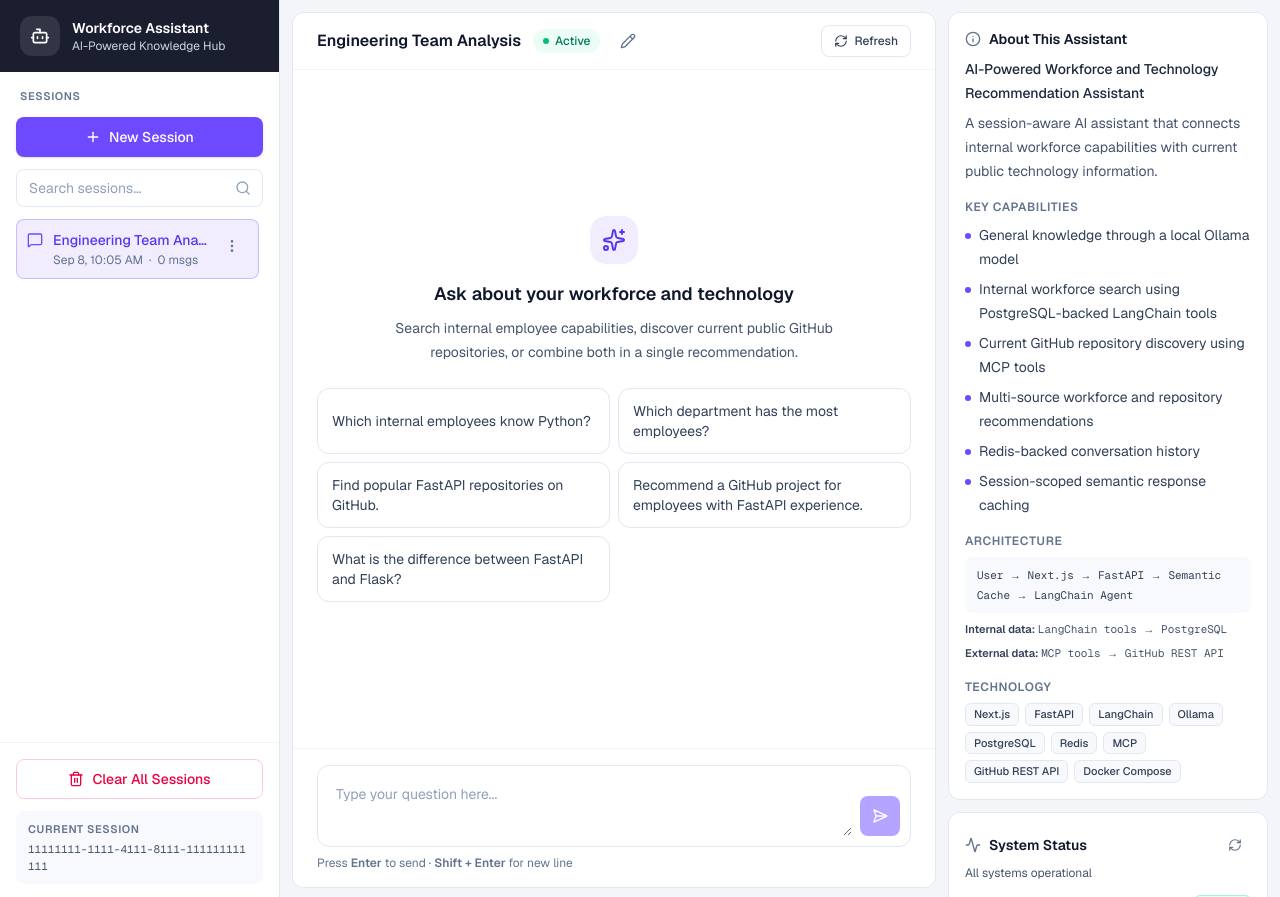
WorkspaceScreen › renames a session through the actions menu
The width and height of the screenshot is (1280, 897).
Expected: the list named "conversation sessions" is shown, [16,218,259,278]
Click the button named "Actions for Engineering Team Analysis": [232, 246] box [216,230,248,262]
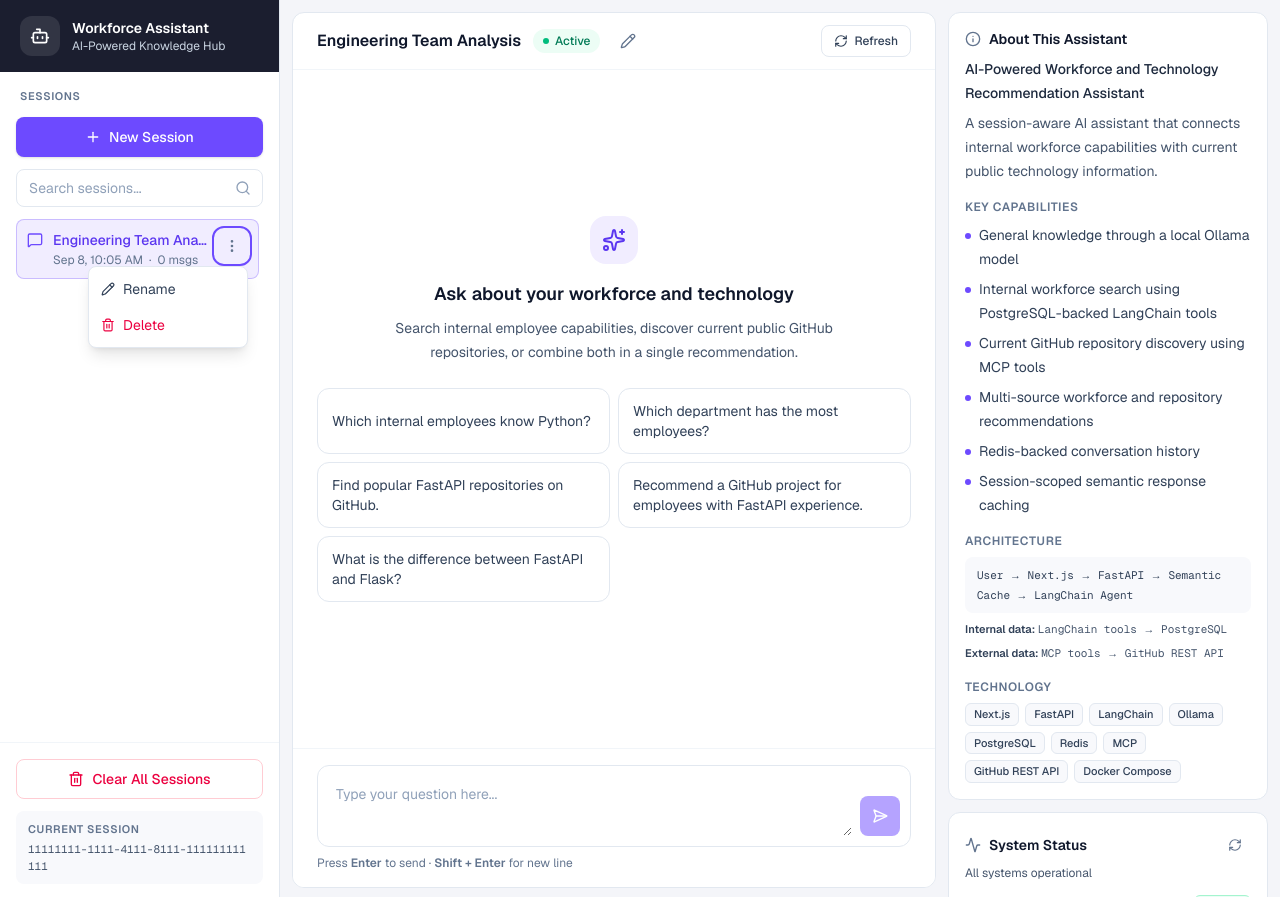
Click the menu item "Rename": [168, 288] box [89,270,247,306]
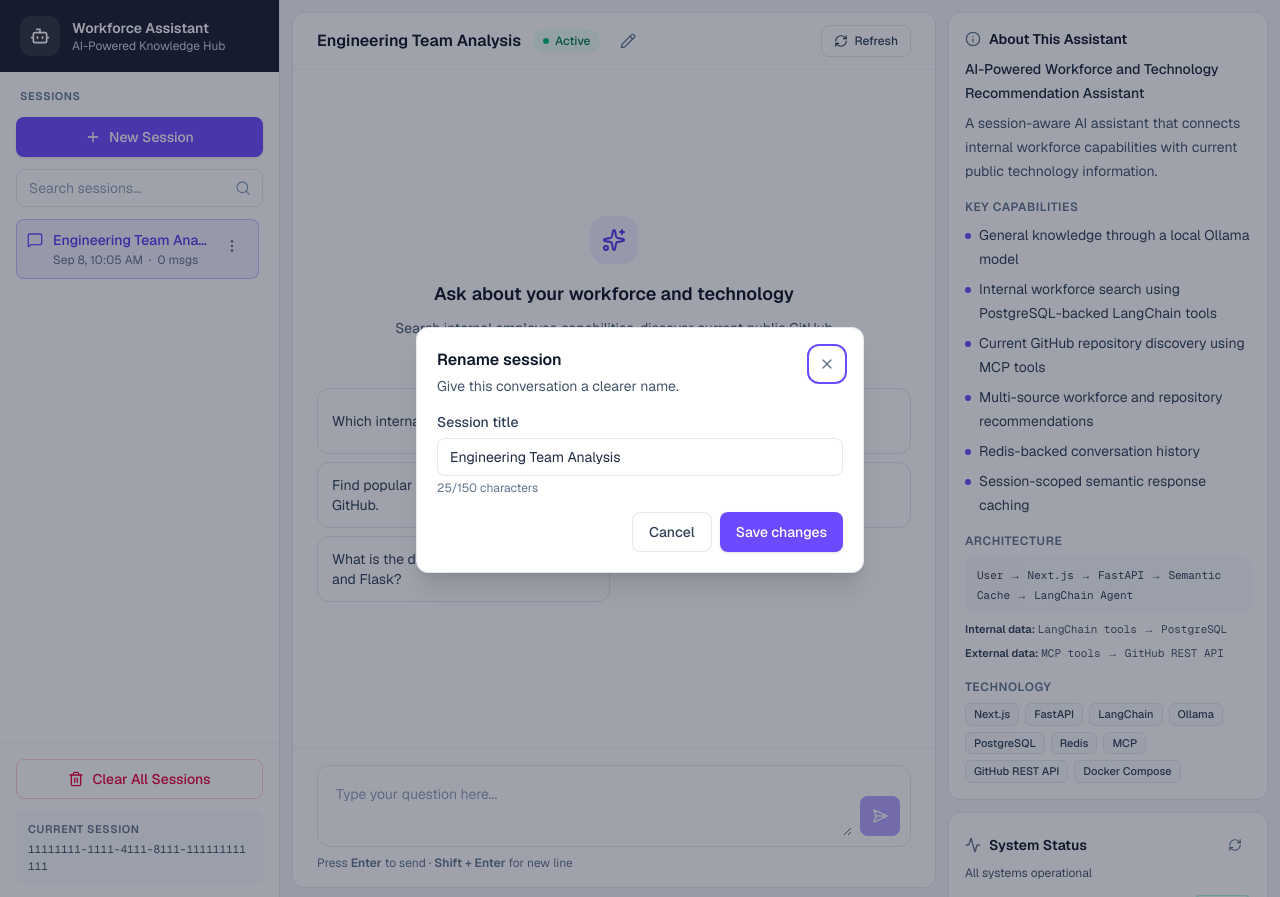
Replace the text in the field labelled "Session title" with "Backend Skills Overview": [640, 457] box [437,438,843,476]
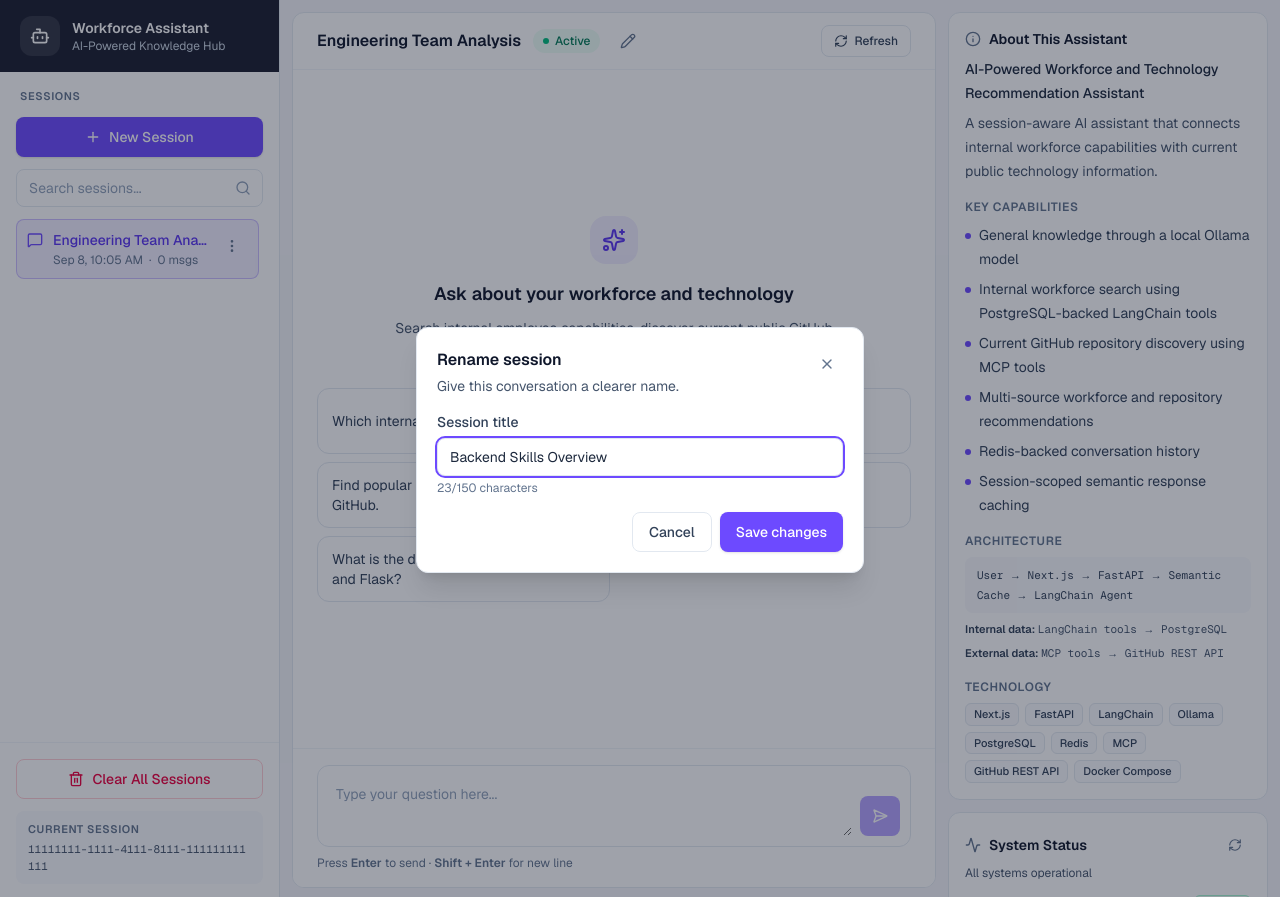
Click the button "Save changes": [781, 532] box [720,512,843,552]
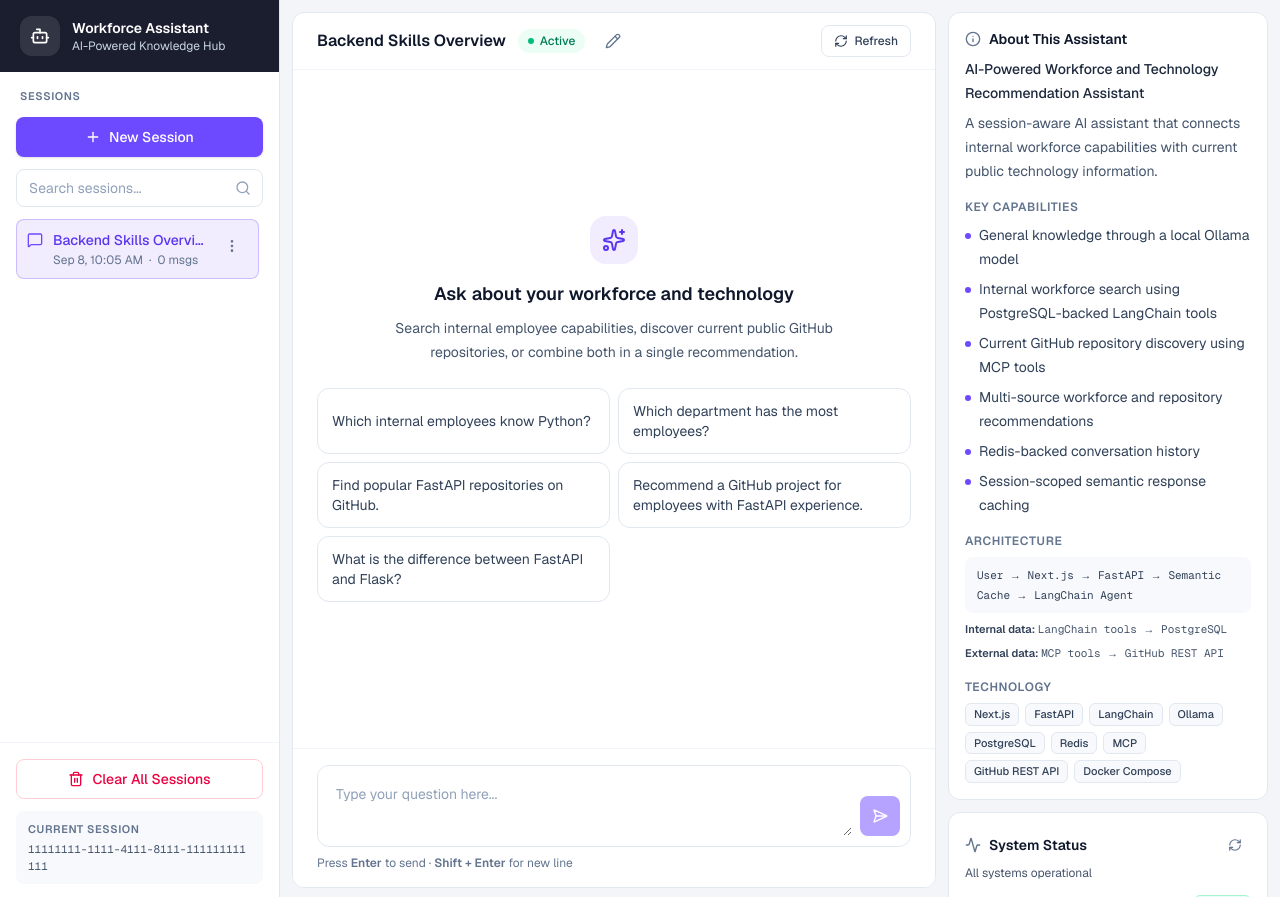
Result: the heading "Backend Skills Overview" is shown at [317,29,506,53]
